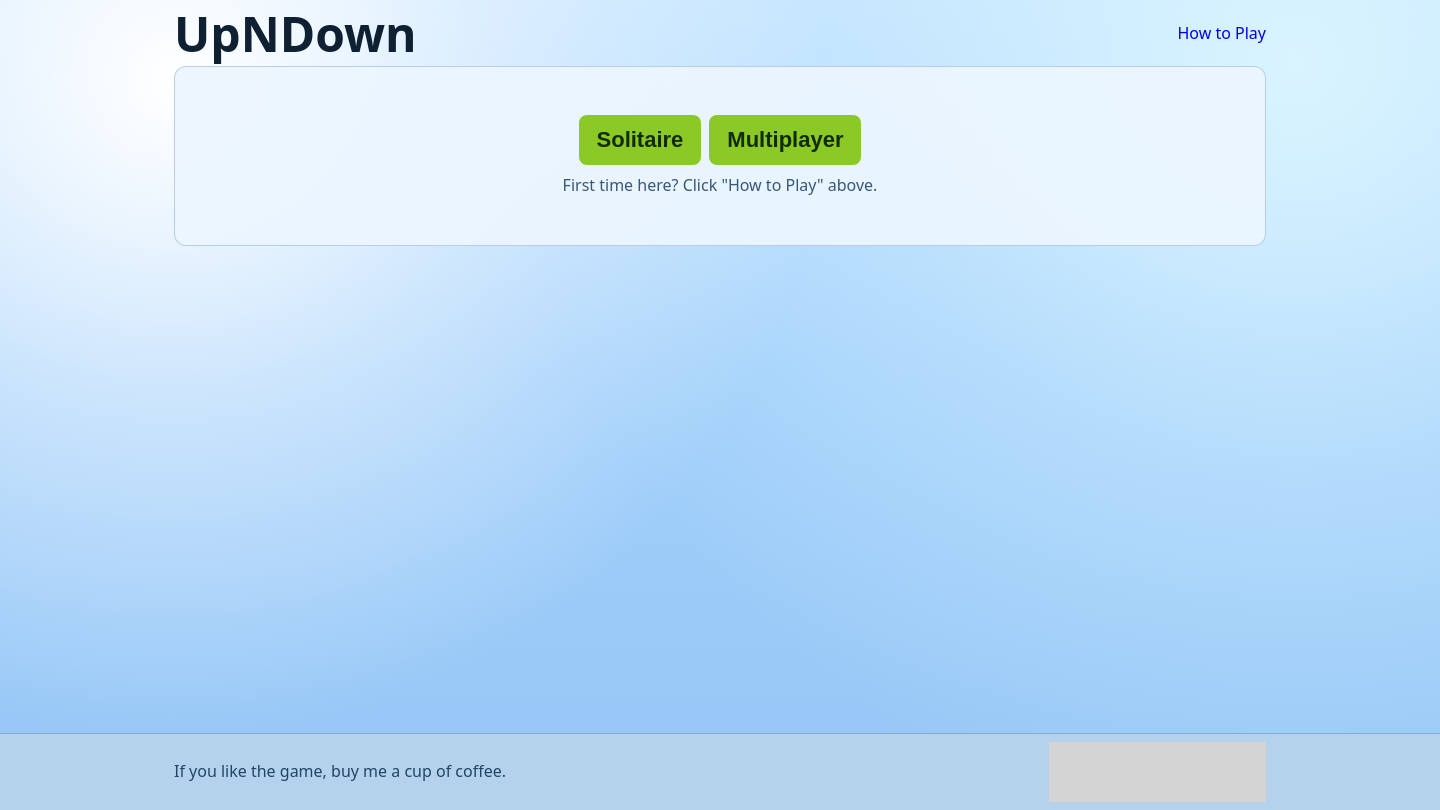
Test: multiplayer ack handling › keeps multiplayer state when leave ack fails
Click the button with test id "mode-multiplayer".
click(785, 140)  # box x1=709 y1=115 x2=861 y2=165
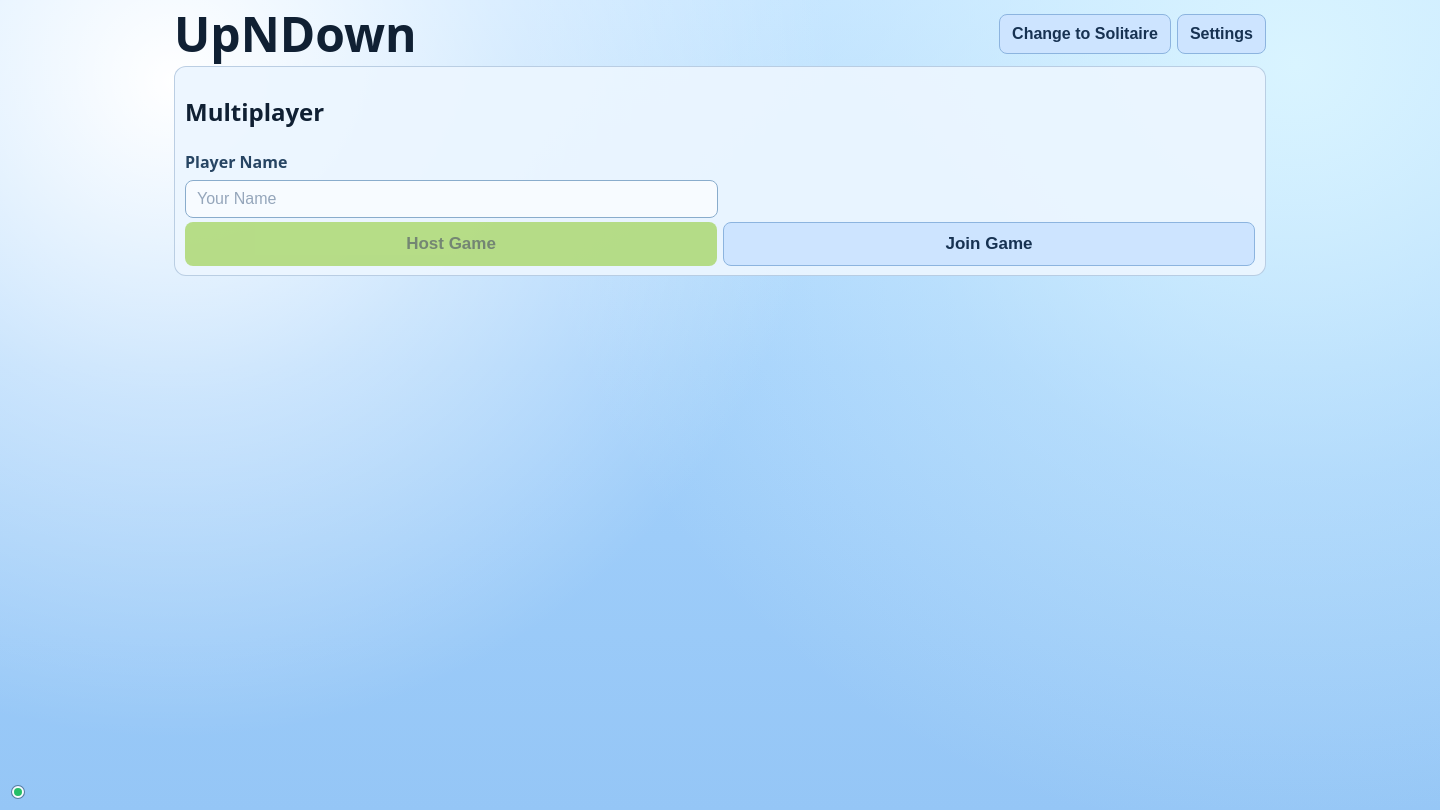
Type "Alex" into the field labelled "Player Name".
click(452, 199); type("Alex")  # box x1=185 y1=180 x2=718 y2=218
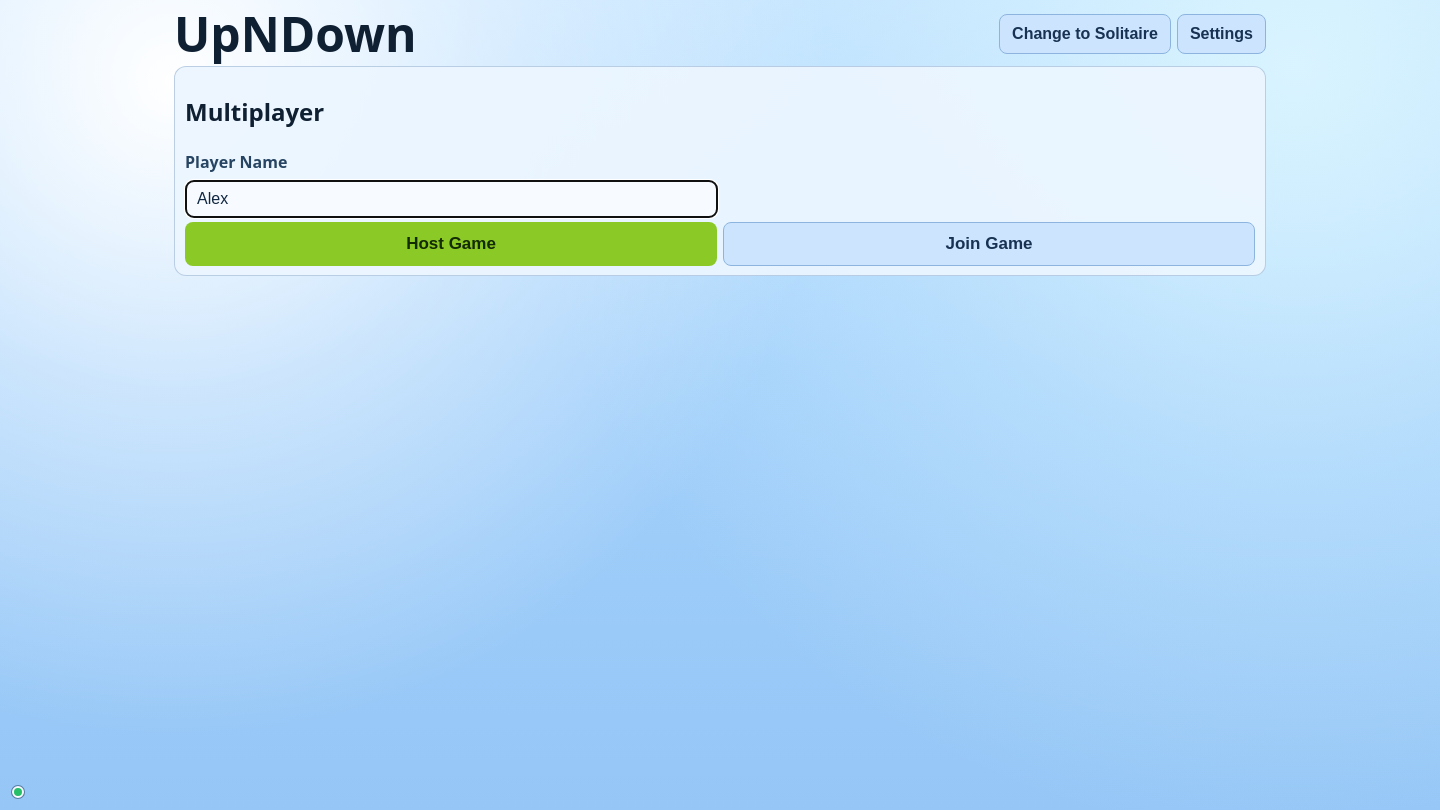
Click the button with test id "flow-host".
click(451, 244)  # box x1=185 y1=222 x2=717 y2=266
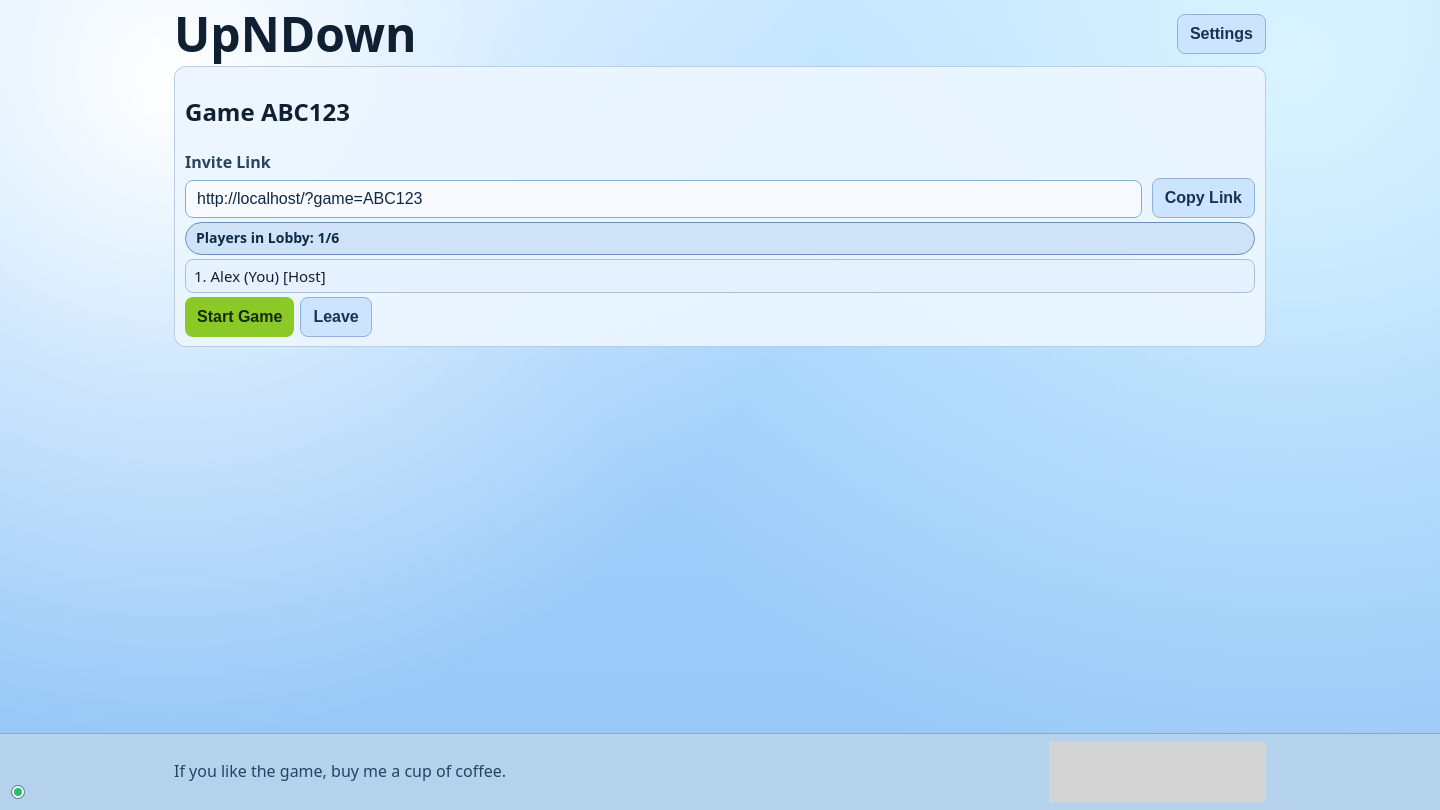
Expected: the heading "Game ABC123" is shown, x1=185 y1=95 x2=350 y2=128
Click the button with test id "leave-game".
click(336, 317)  # box x1=300 y1=297 x2=372 y2=337
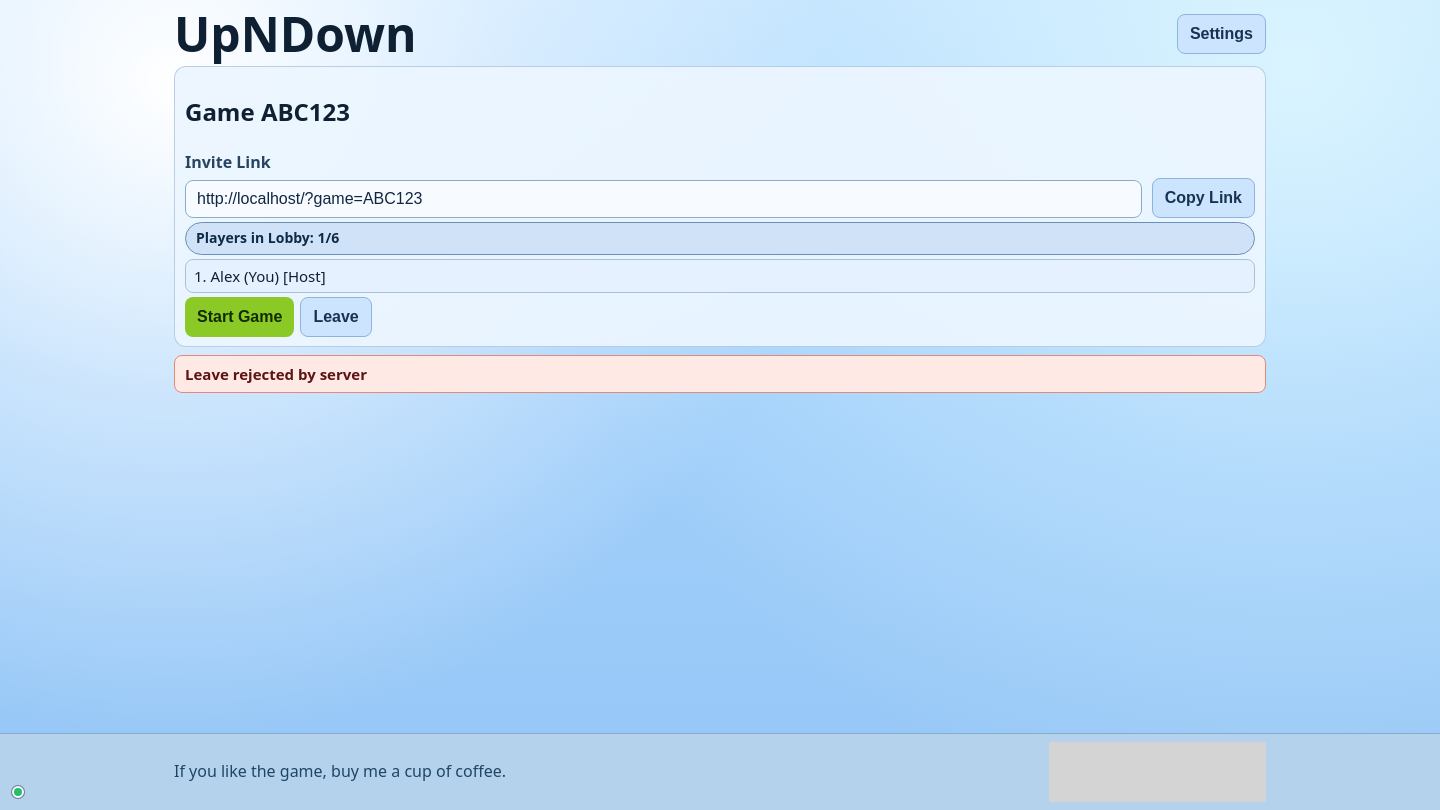
Expected: the heading "Game ABC123" is shown, x1=185 y1=95 x2=350 y2=128
Expected: the message reads "Leave rejected by server", x1=185 y1=364 x2=367 y2=384
